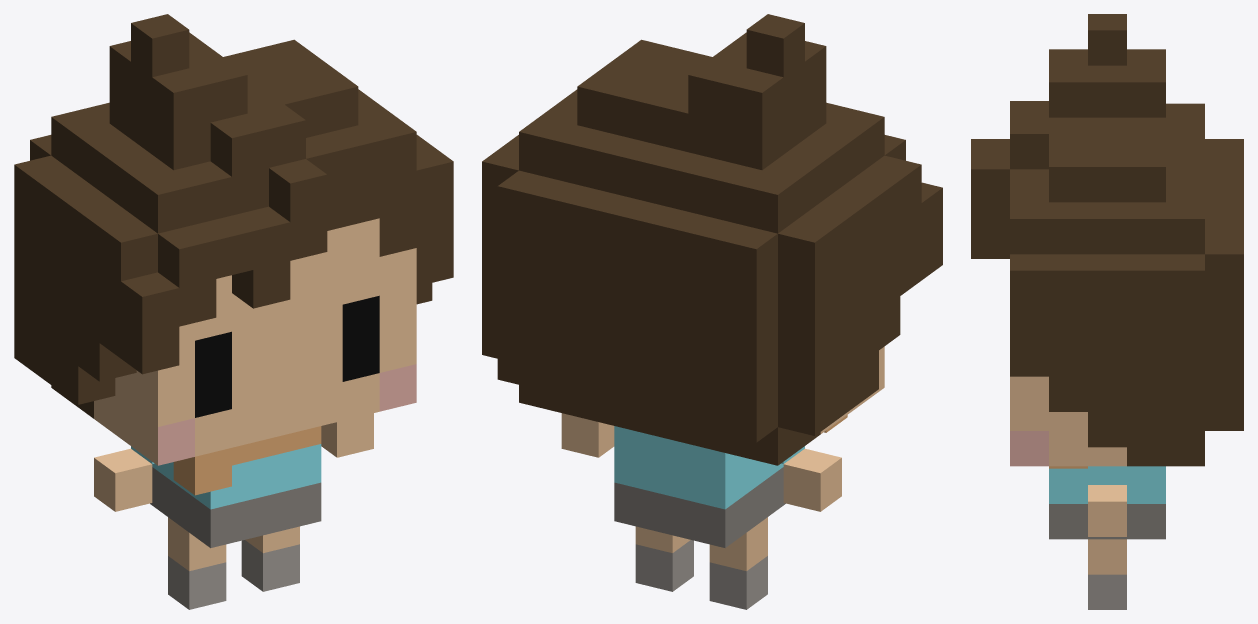
Rendered from haruto_palette.glb.
The picture shows the model from 3 angles, left to right: view 1: azimuth 30°, elevation 25°; view 2: azimuth 150°, elevation 25°; view 3: azimuth 270°, elevation 25°; orthographic projection. The views are drawn at different scales.
Visible parts, largest first — view 1: haruto_palette; view 2: haruto_palette; view 3: haruto_palette.
Boxes of the visible parts, box(x1,y1,x2,y2) form: haruto_palette: box(14, 14, 453, 609); haruto_palette: box(482, 14, 942, 609); haruto_palette: box(971, 14, 1243, 609).
Bounding box in the file's own units: 2.26 × 3.76 × 1.76.
Materials: 1 (1 with a texture image).
